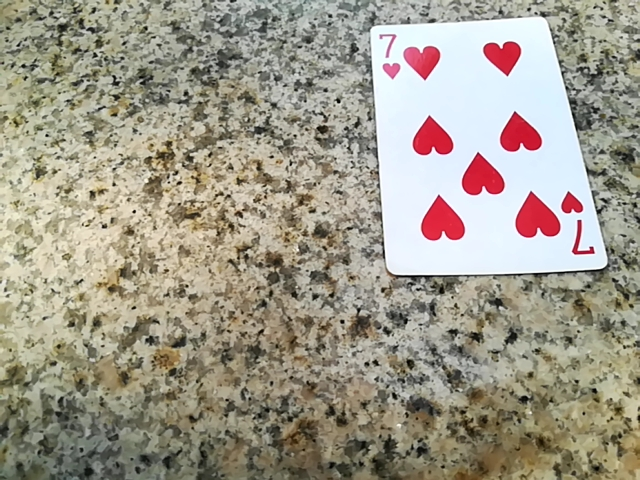hx 7: (357, 26, 593, 292)
